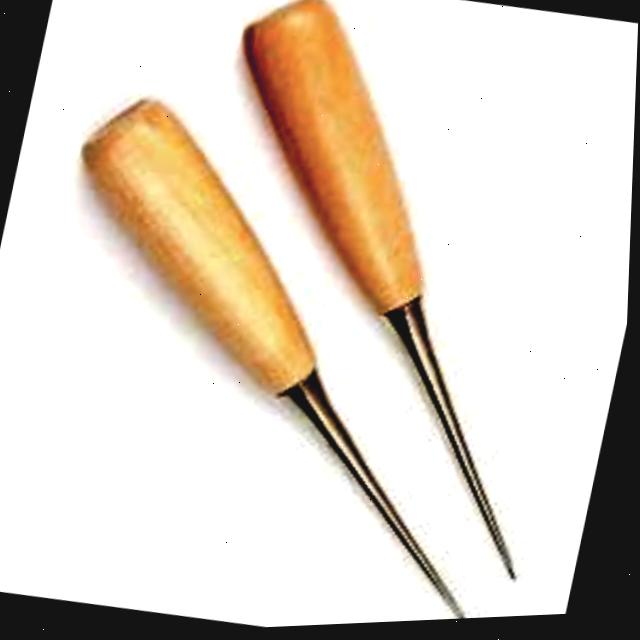ice pick: (0, 71, 580, 640), (144, 0, 629, 590)
